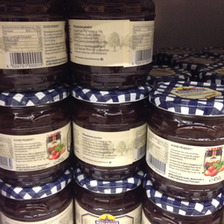jam: (148, 79, 224, 200), (70, 85, 150, 181), (68, 1, 156, 88), (1, 90, 71, 186), (1, 1, 69, 92), (73, 169, 145, 224), (1, 178, 74, 224)
